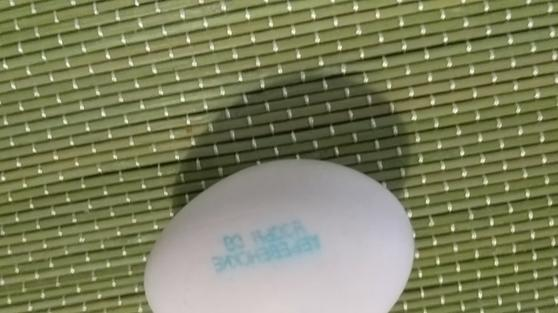egg: (141, 157, 415, 313)
